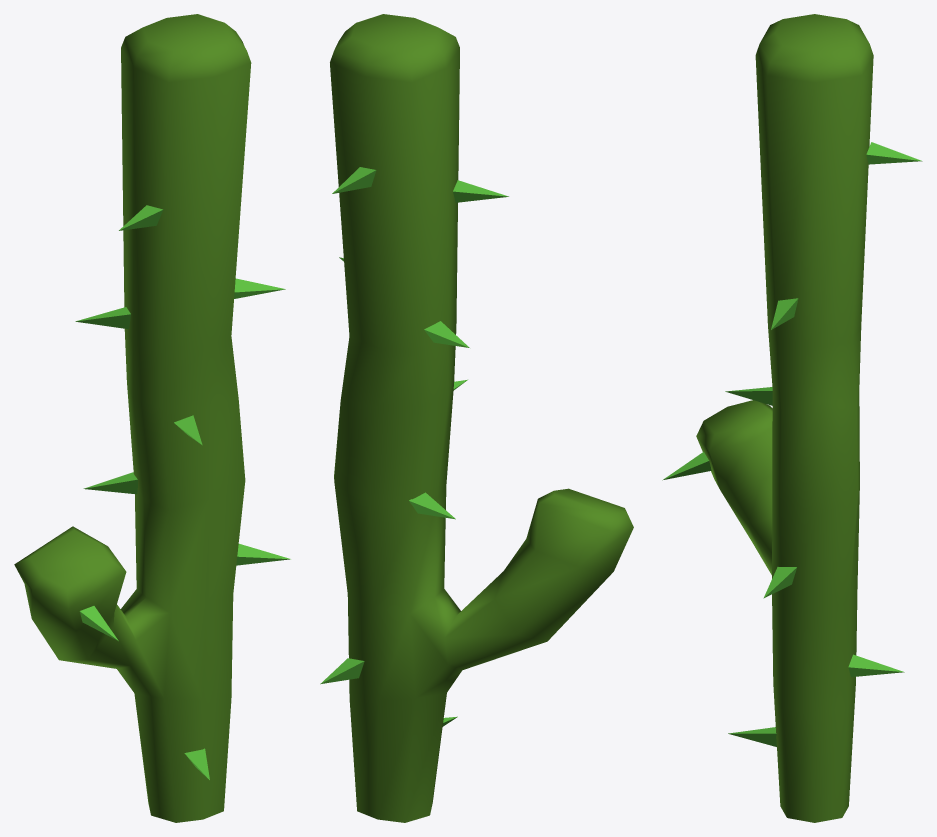
Rendered from Cactus_35_B.fbx.
The picture shows the model from 3 angles, left to right: view 1: azimuth 30°, elevation 25°; view 2: azimuth 150°, elevation 25°; view 3: azimuth 270°, elevation 25°; orthographic projection.
Parts seen in each view (by area): view 1: Cactus_35_B; view 2: Cactus_35_B; view 3: Cactus_35_B.
Part boxes in pixels (x1,y1,x2,y2): Cactus_35_B: [14, 14, 290, 822]; Cactus_35_B: [320, 14, 633, 822]; Cactus_35_B: [662, 14, 922, 822].
Size of the model in its own units: 84.39 by 226 by 69.05.
